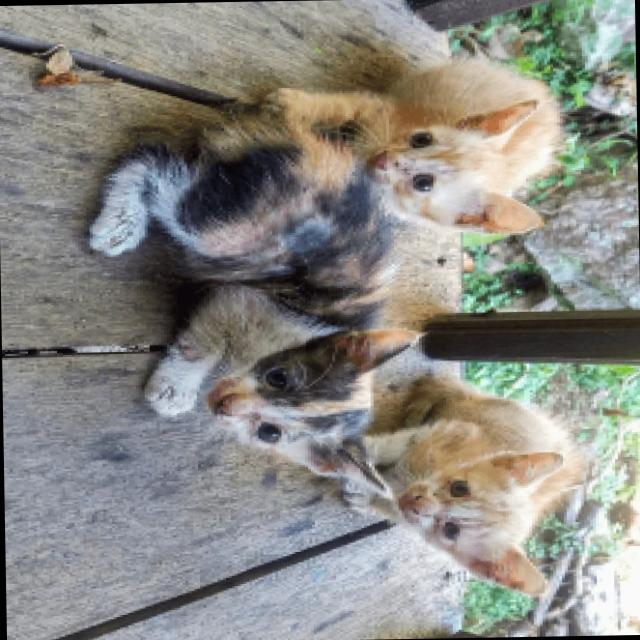Mange: (174, 338, 206, 360), (468, 204, 493, 227), (240, 404, 262, 424), (510, 579, 524, 591), (431, 514, 441, 530), (435, 480, 447, 492), (492, 574, 502, 582)
